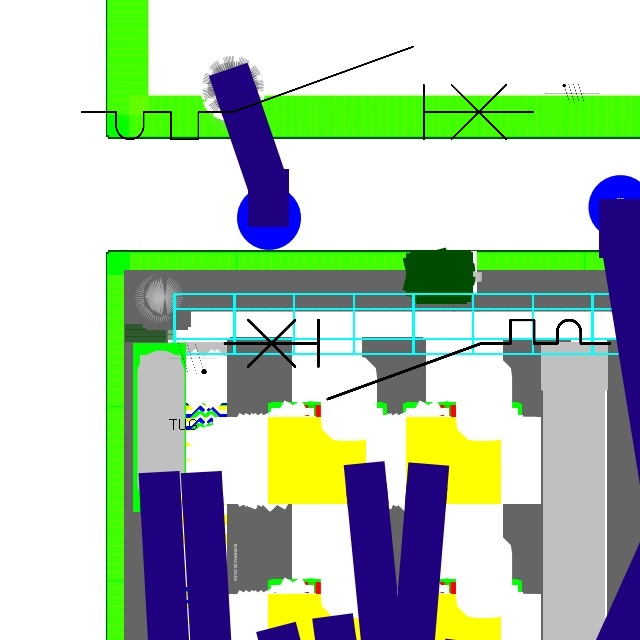interruptor_termomagnetico: (70, 35, 545, 151), (214, 310, 620, 409)
